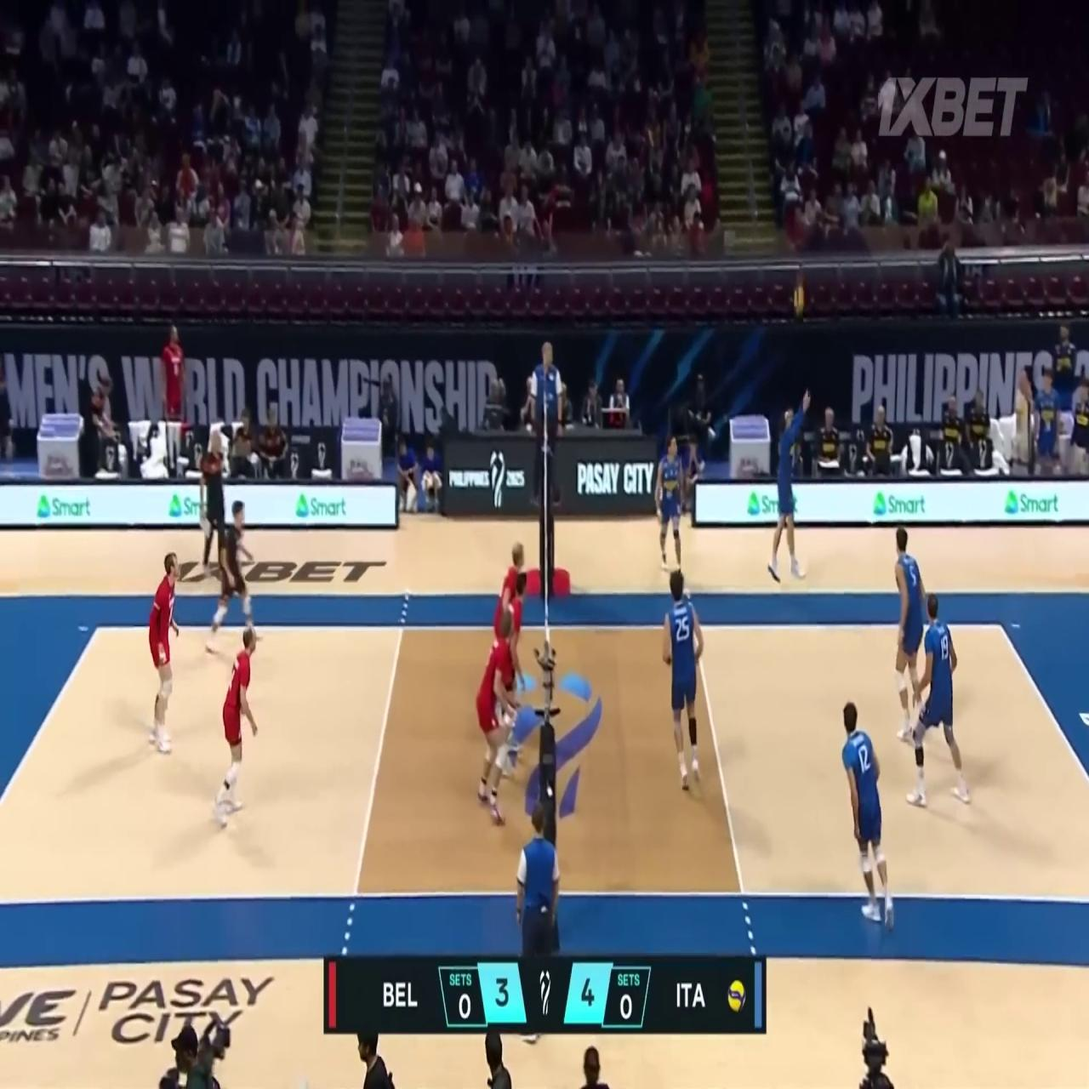ball: (794, 286, 805, 314)
